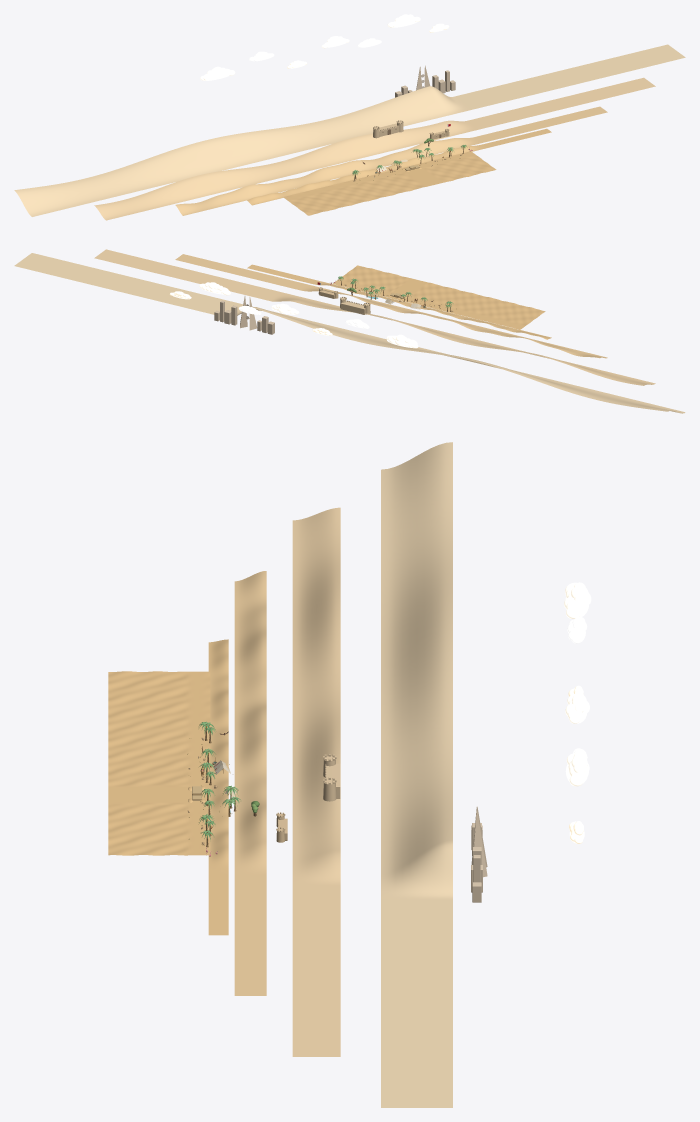
Rendered from desert.glb.
The picture shows the model from 3 angles, top to bottom: view 1: azimuth 30°, elevation 25°; view 2: azimuth 150°, elevation 25°; view 3: azimuth 270°, elevation 25°; orthographic projection. The views are drawn at different scales.
Parts seen in each view (by area): view 1: Dune4, Dune3, Ground, Dune2, Dune1, Static, Static.fx0, Static.fx1; view 2: Dune4, Ground, Dune3, Dune2, Static, Dune1, Static.fx0, Static.fx1; view 3: Dune4, Dune3, Ground, Dune2, Dune1, Static, Static.fx0.
Part boxes in pixels (x1=…): Dune4: x1=14, y1=44, x2=685, y2=216; Dune3: x1=94, y1=77, x2=655, y2=220; Ground: x1=283, y1=151, x2=496, y2=215; Dune2: x1=175, y1=106, x2=607, y2=215; Dune1: x1=247, y1=128, x2=551, y2=205; Static: x1=353, y1=65, x2=462, y2=181; Static.fx0: x1=200, y1=14, x2=420, y2=80; Static.fx1: x1=249, y1=38, x2=381, y2=61; Dune4: x1=14, y1=253, x2=685, y2=413; Ground: x1=332, y1=265, x2=545, y2=329; Dune3: x1=94, y1=249, x2=655, y2=385; Dune2: x1=175, y1=254, x2=607, y2=358; Static: x1=214, y1=282, x2=456, y2=334; Dune1: x1=247, y1=264, x2=551, y2=339; Static.fx0: x1=199, y1=282, x2=418, y2=348; Static.fx1: x1=239, y1=305, x2=369, y2=328; Dune4: x1=381, y1=442, x2=452, y2=1107; Dune3: x1=292, y1=507, x2=340, y2=1056; Ground: x1=108, y1=671, x2=210, y2=855; Dune2: x1=234, y1=571, x2=266, y2=995; Dune1: x1=208, y1=639, x2=228, y2=935; Static: x1=187, y1=737, x2=487, y2=902; Static.fx0: x1=564, y1=582, x2=591, y2=786.
Bounding box in the file's own units: 377 × 35.33 × 121.
